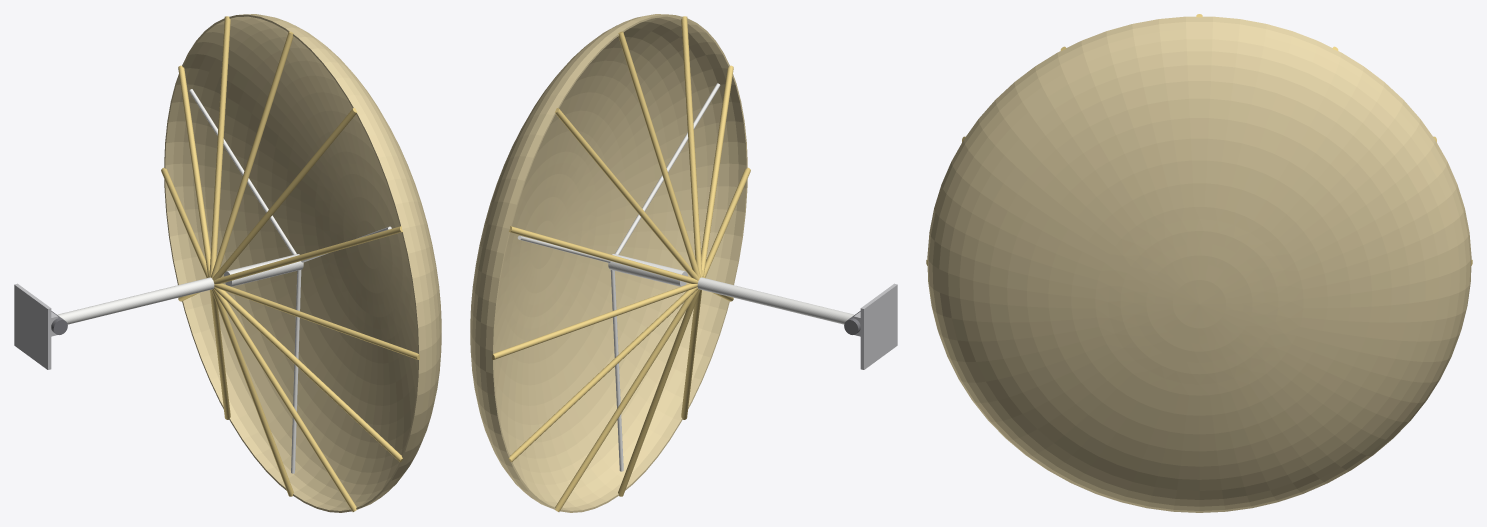
Rendered from power16_mesh_antenna_l_deployed.glb.
3 views of the same model, side by side, from view 1: azimuth 30°, elevation 25°; view 2: azimuth 150°, elevation 25°; view 3: azimuth 270°, elevation 25° (orthographic). The views are drawn at different scales.
Parts seen in each view (by area): view 1: dish_mesh, dish_ribs, feed, mount, boom; view 2: dish_mesh, dish_ribs, feed, mount, boom; view 3: dish_mesh.
Boxes of the visible parts, x1,y1,x2,y2 form: dish_mesh: (164, 14, 441, 512); dish_ribs: (161, 16, 419, 511); feed: (189, 89, 391, 473); mount: (14, 283, 58, 369); boom: (57, 277, 214, 324); dish_mesh: (470, 14, 747, 512); dish_ribs: (492, 16, 750, 511); feed: (517, 83, 720, 471); mount: (853, 283, 897, 369); boom: (697, 277, 854, 324); dish_mesh: (927, 16, 1471, 512).
Bounding box in the file's own units: 3.85 × 5.02 × 5.02.
